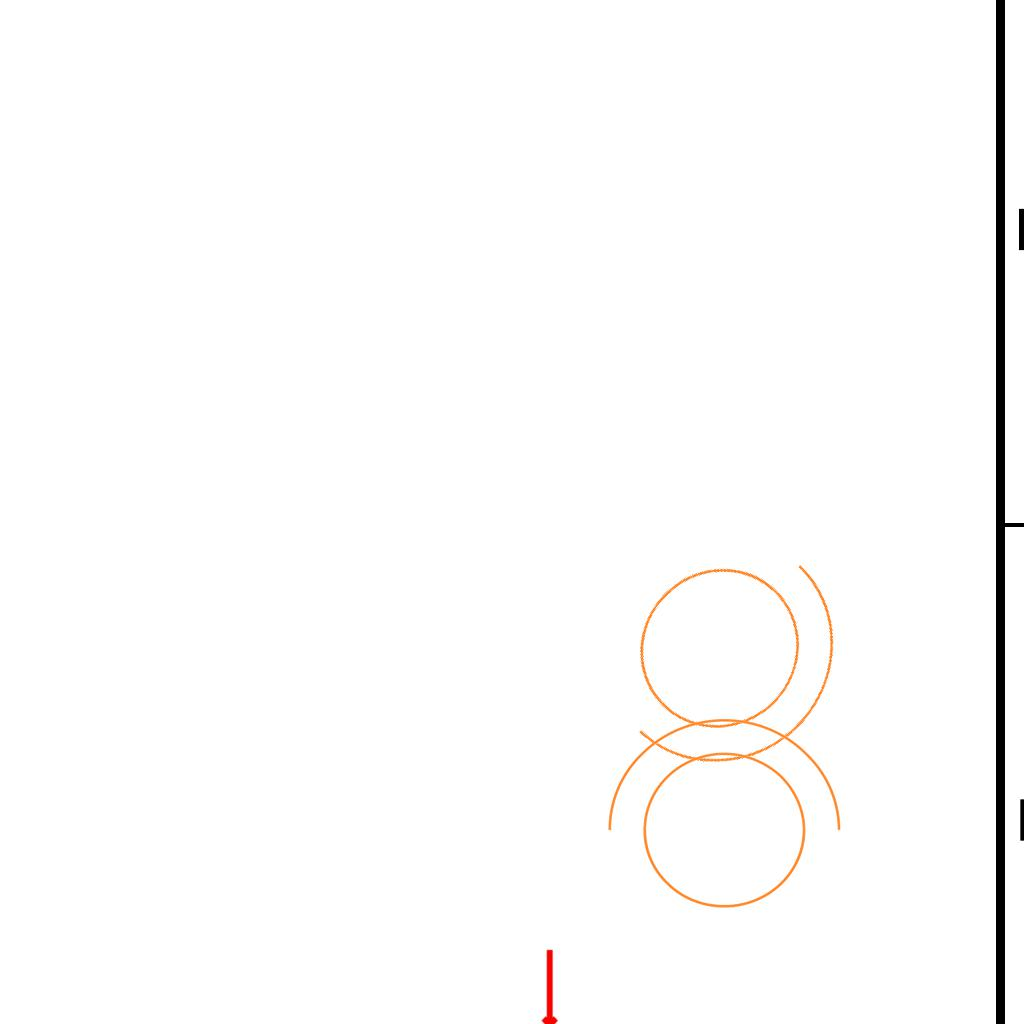ASR_Ansaugoeffnung: (537, 947, 560, 1024)
Scheinwerfer_fuer_Alarmbeleuchtung: (558, 477, 904, 824), (586, 708, 850, 933)
